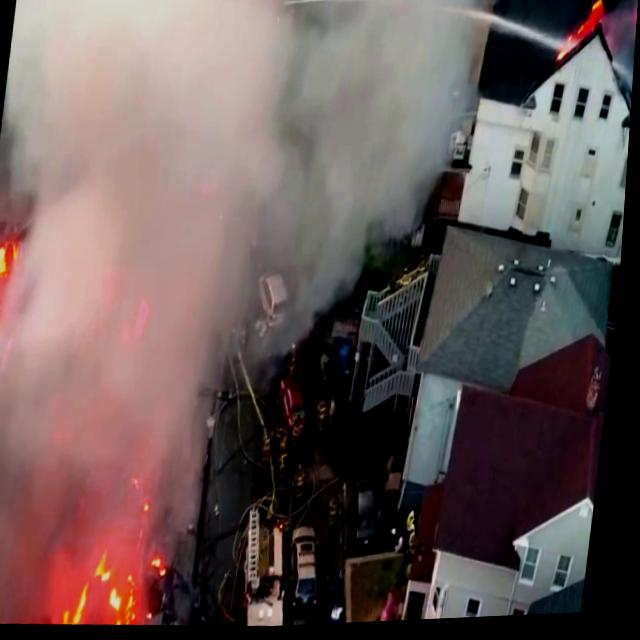fire: (57, 526, 145, 629), (0, 249, 36, 369)
smoke: (86, 0, 340, 205)
